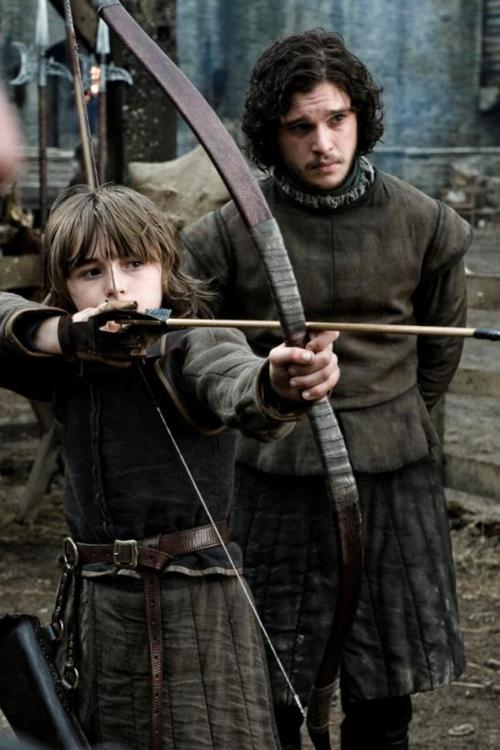person: (4, 188, 344, 743)
